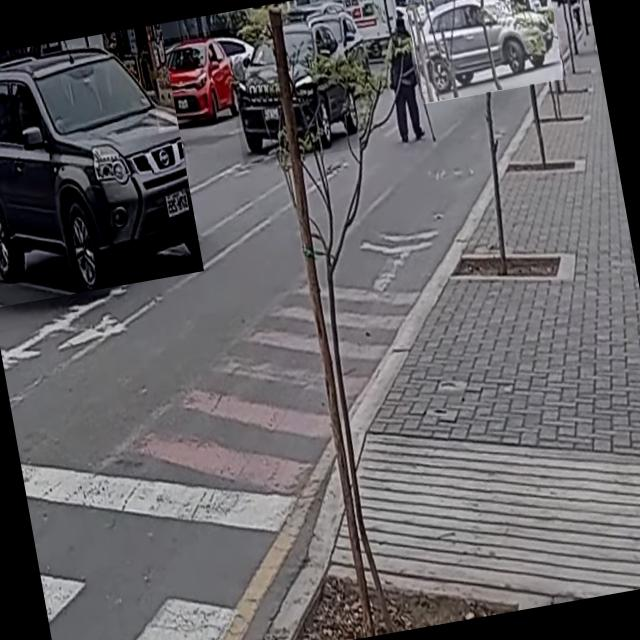car: (0, 23, 203, 307), (221, 13, 368, 168), (406, 0, 565, 104), (144, 27, 246, 134)
